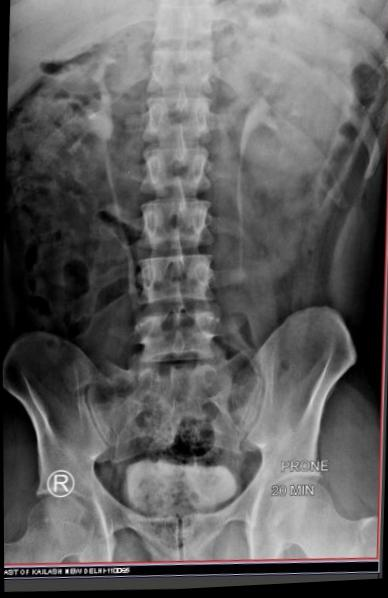bladder: (116, 450, 244, 528)
right kidney: (3, 39, 131, 230)
vertebrae: (139, 92, 216, 149)
